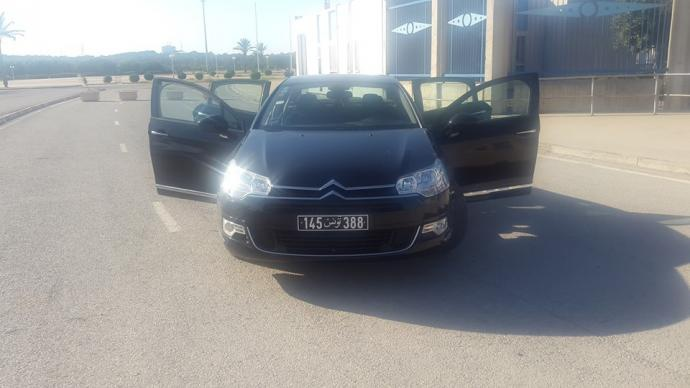LP: (295, 214, 375, 232)
